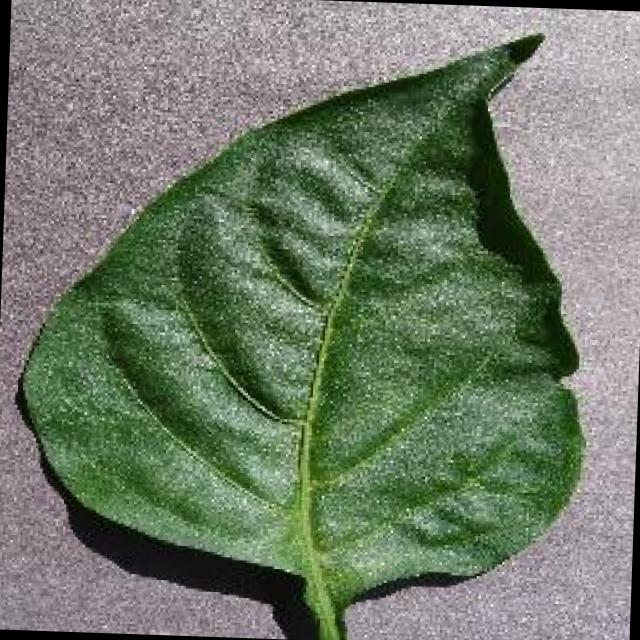Chilli_Healthy: (4, 10, 600, 640)
